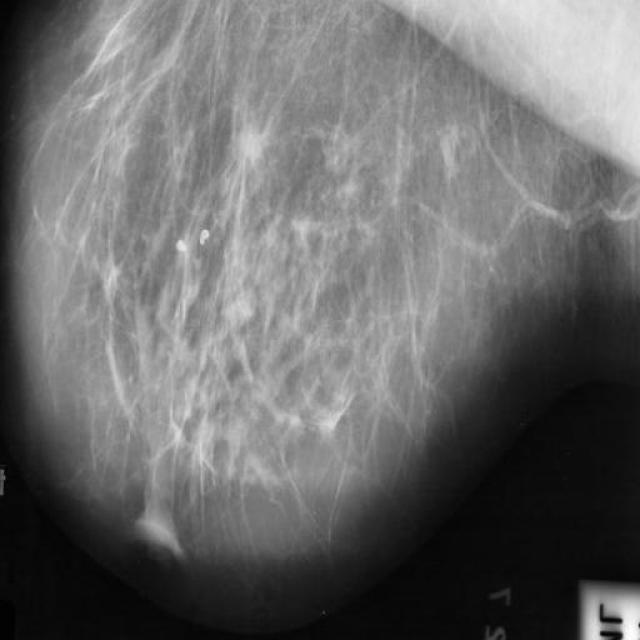cancer: (152, 398, 208, 478)
